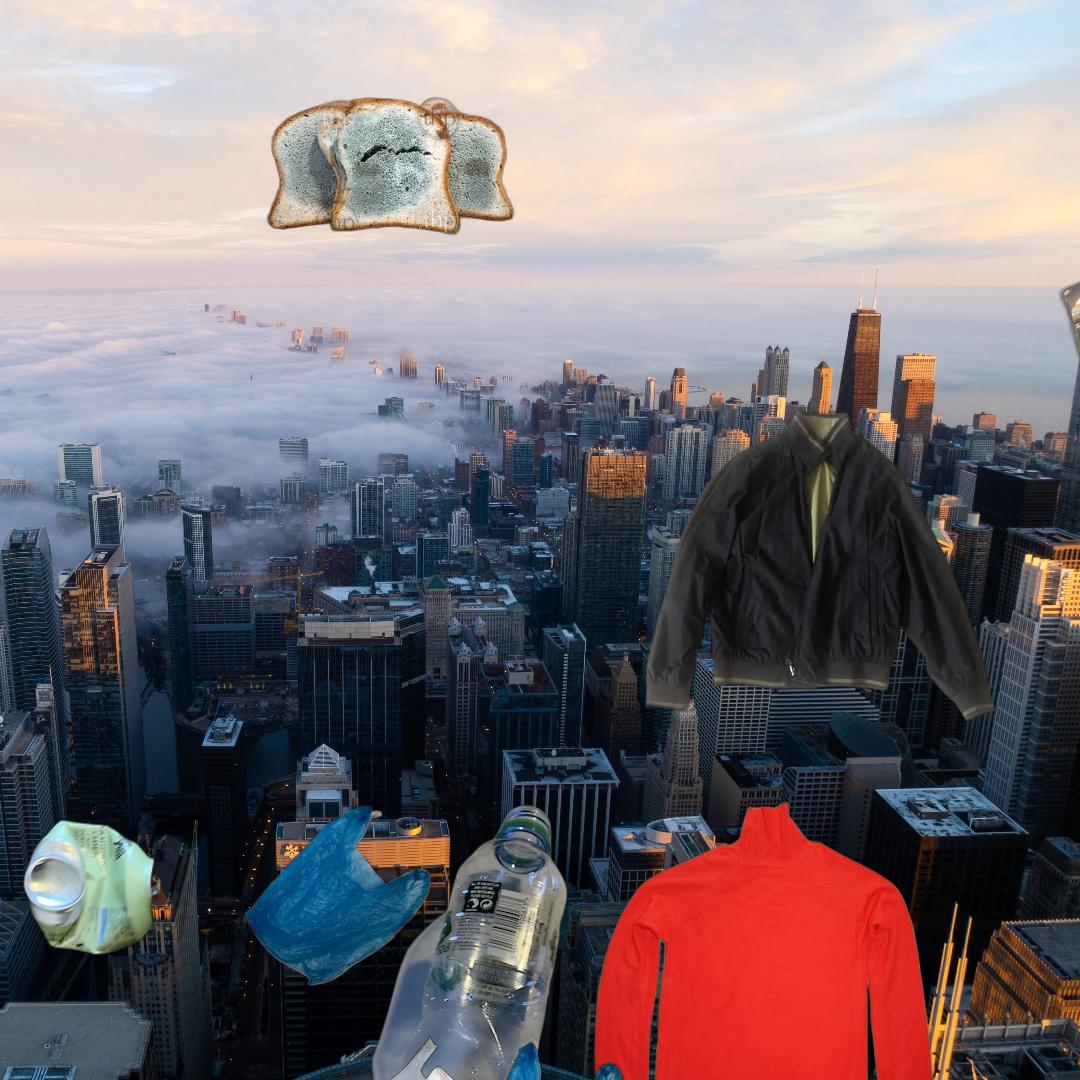biological: (264, 95, 519, 241)
clothes: (641, 405, 998, 725), (591, 797, 936, 1080)
metal-cans: (18, 814, 166, 960)
plastic-bag: (242, 802, 432, 987), (366, 1034, 627, 1080)
plastic-bottles: (316, 801, 569, 1080), (1055, 72, 1080, 371)
